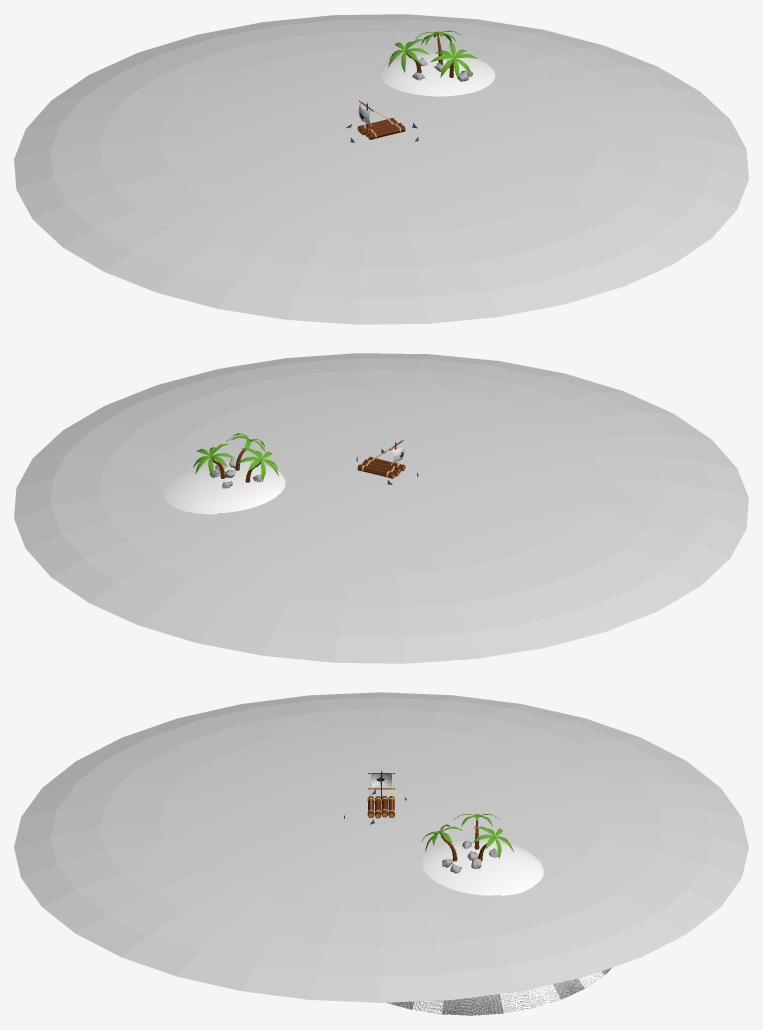
File: pirate-raft-world.glb
The picture shows the model from 3 angles, top to bottom: view 1: azimuth 30°, elevation 25°; view 2: azimuth 150°, elevation 25°; view 3: azimuth 270°, elevation 25°; orthographic projection.
Visible parts, largest first — view 1: Ocean 2, Ocean, Island, Tree Canopy.001; view 2: Ocean 2, Ocean, Island; view 3: Ocean 2, Ocean, Island.
Part boxes in pixels (x1,y1,x2,y2): Ocean 2: (14, 14, 748, 324); Ocean: (180, 59, 582, 229); Island: (378, 52, 495, 96); Tree Canopy.001: (430, 42, 477, 78); Ocean 2: (14, 353, 748, 663); Ocean: (126, 376, 636, 591); Island: (162, 461, 285, 514); Ocean 2: (14, 692, 748, 1002); Ocean: (141, 721, 621, 924); Island: (386, 838, 612, 1015).
Bounding box in the file's own units: 222 × 40.36 × 222.
11 materials, 1 textured.
